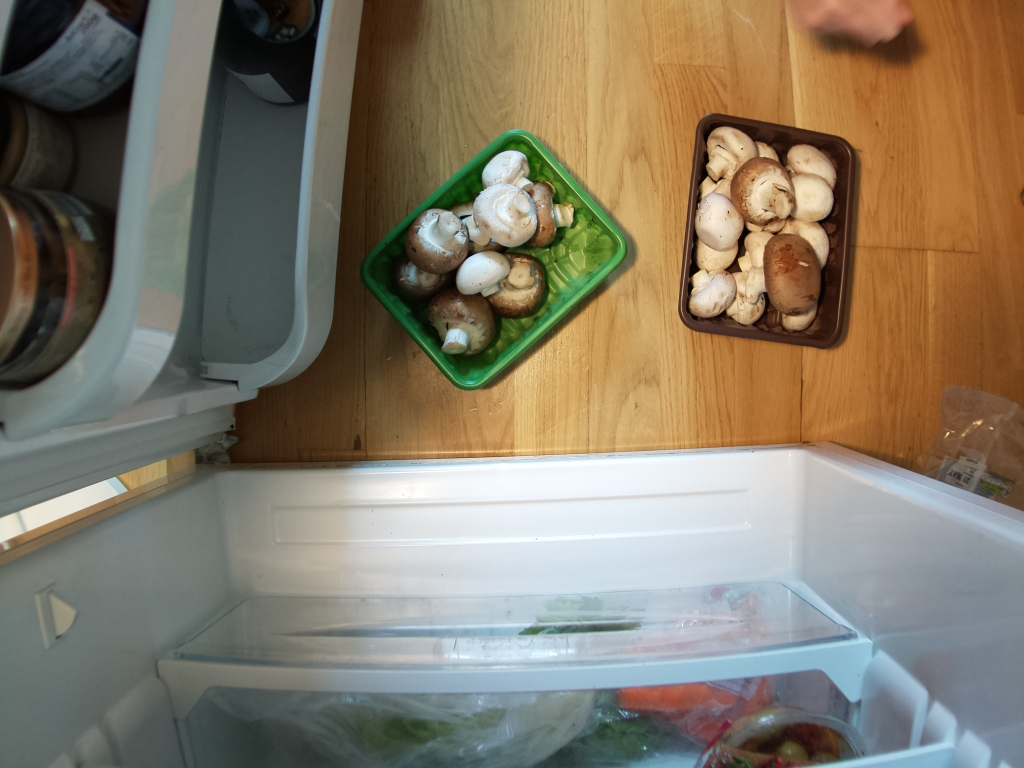mushrooms: (362, 125, 636, 397), (683, 114, 862, 356)
